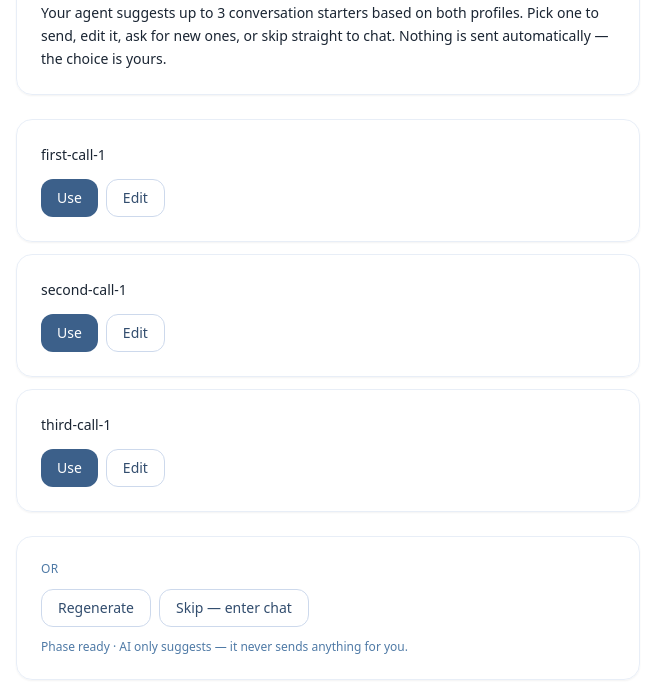
Test case: apps/desktop — LiveIcebreakerView › re-runs generate() when Regenerate is clicked
This screenshot has width=657, height=697.
(page scrolled)
Expected: the text "first-call-1" is shown, 41,145 -> 106,164
Click the button with test id "icebreaker-regenerate" at {"x": 96, "y": 608}, box 41,588 -> 151,626
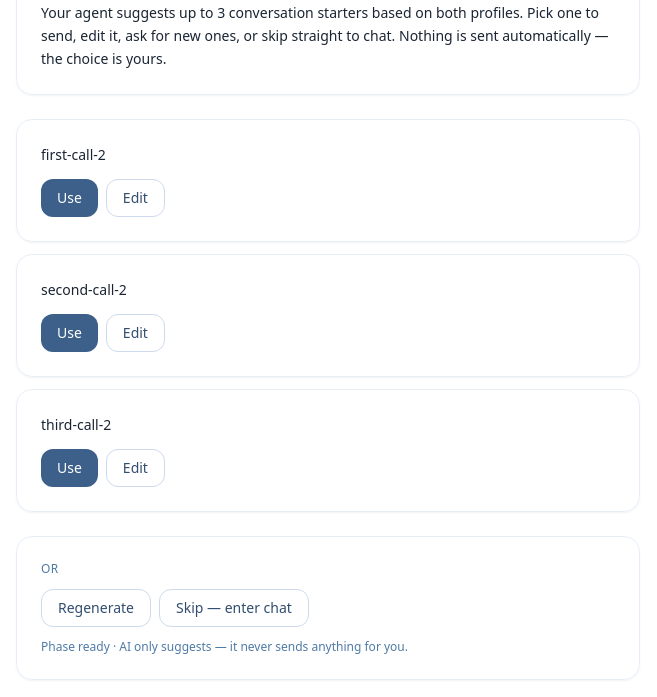
Expected: the text "first-call-2" is shown, 41,145 -> 106,164
